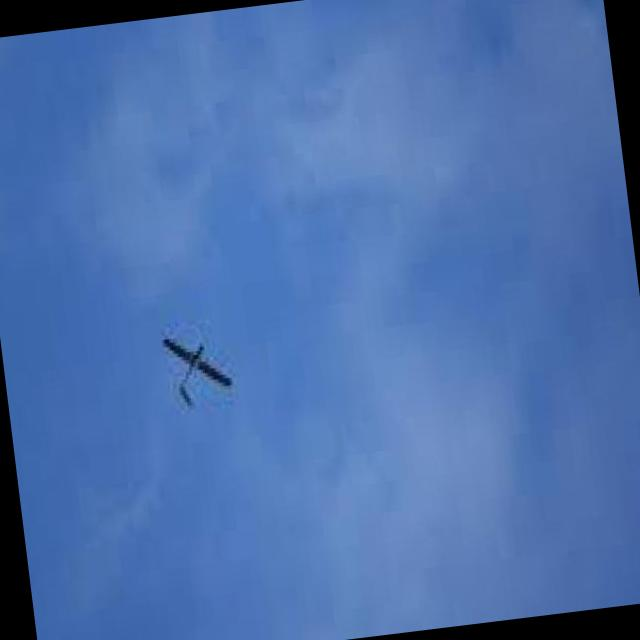UAV: (150, 330, 240, 418)
